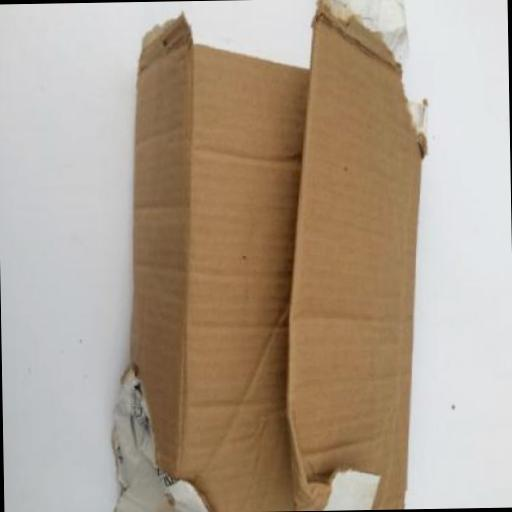cardboard: (125, 0, 434, 512), (281, 0, 434, 510)
